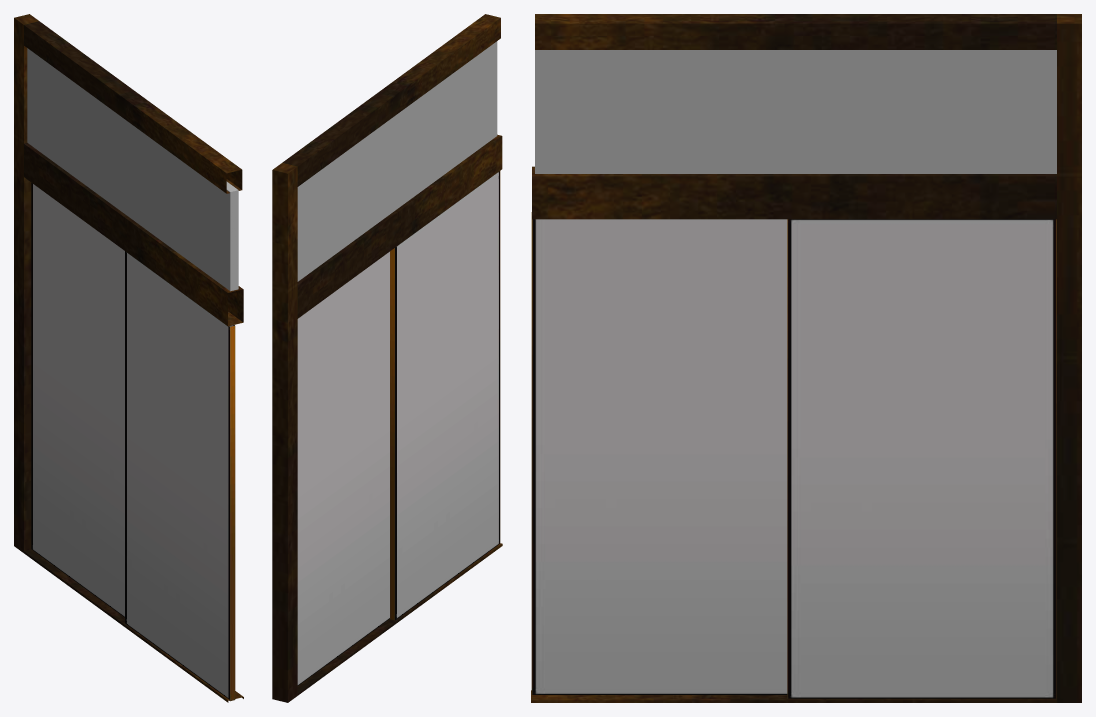
The model's file is Door_Lift.fbx.
The picture shows the model from 3 angles, left to right: view 1: azimuth 30°, elevation 25°; view 2: azimuth 150°, elevation 25°; view 3: azimuth 270°, elevation 25°; orthographic projection. The views are drawn at different scales.
Visible parts, largest first — view 1: Door_L, door_R, Wood, SP_UP; view 2: Door_L, door_R, Wood, SP_UP; view 3: door_R, Door_L, SP_UP, Wood.
Part boxes in pixels (<box>): Door_L: <box>125,251,235,701</box>; door_R: <box>31,183,124,617</box>; Wood: <box>14,14,243,702</box>; SP_UP: <box>27,48,238,291</box>; Door_L: <box>390,171,500,620</box>; door_R: <box>297,251,389,685</box>; Wood: <box>272,14,502,702</box>; SP_UP: <box>297,41,497,281</box>; door_R: <box>787,219,1056,698</box>; Door_L: <box>531,212,787,694</box>; SP_UP: <box>535,50,1056,173</box>; Wood: <box>531,14,1081,702</box>.
Size of the model in its own units: 7.42 by 241 by 177.
3 materials, 2 textured.
